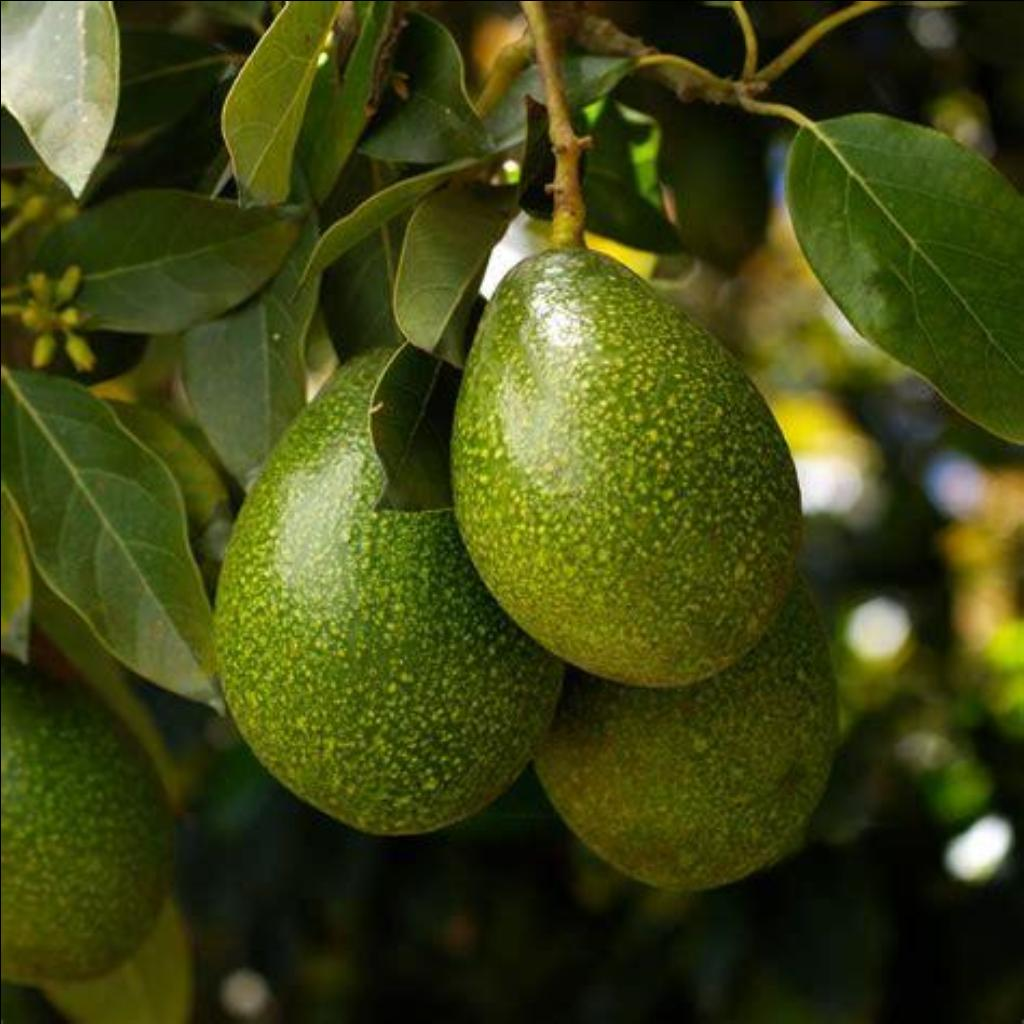Healthy: (426, 214, 838, 684), (188, 381, 532, 809), (558, 698, 846, 912)
